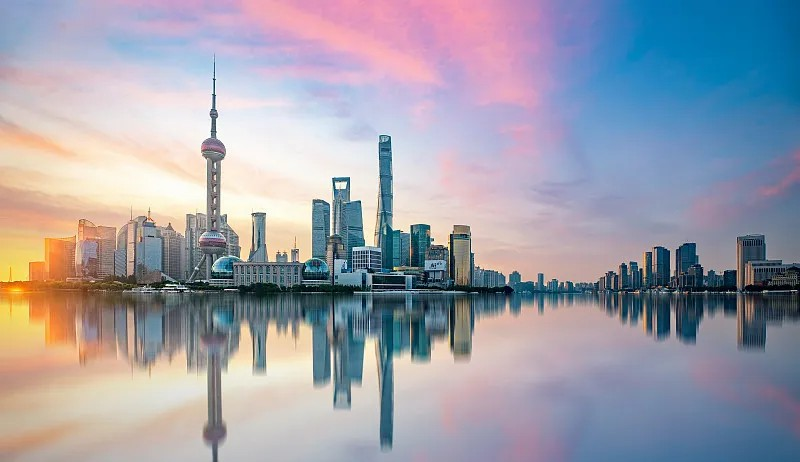Oriental: (187, 52, 227, 279)
